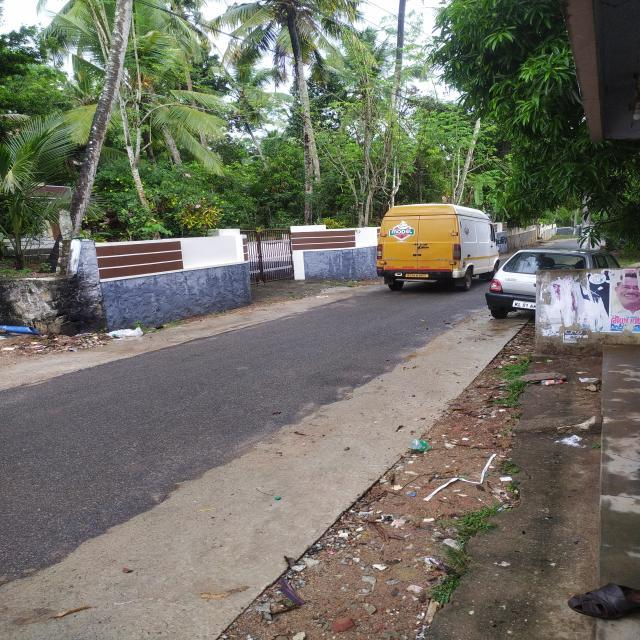Travller: (350, 186, 507, 308)
